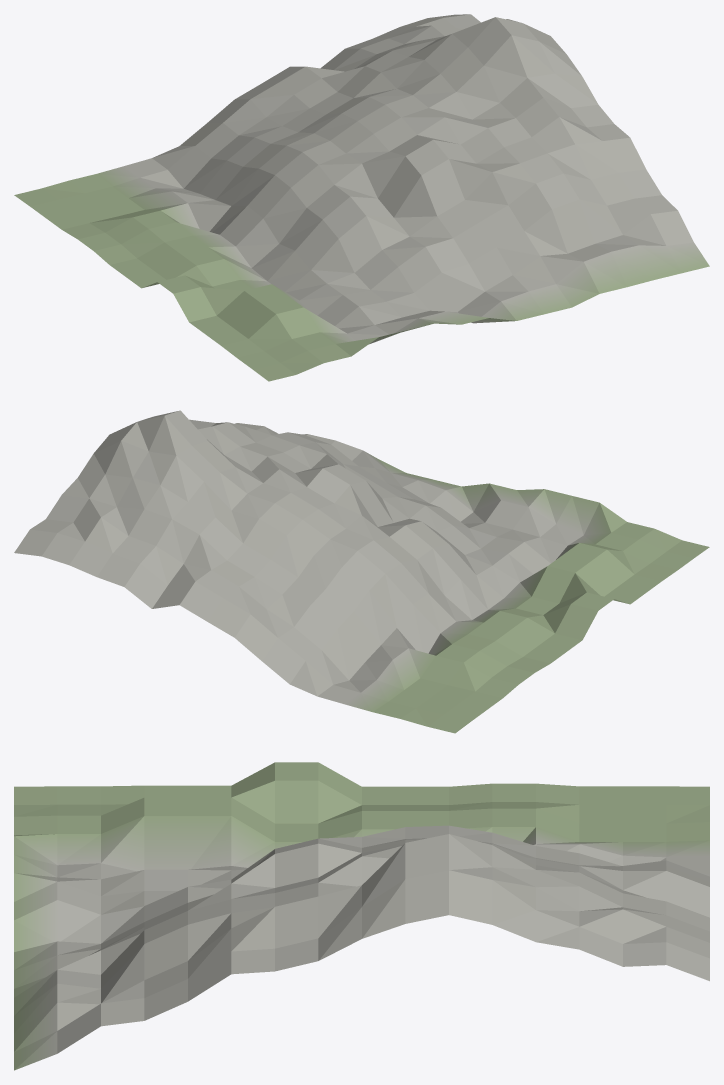
3 views of the same model, one above another, from view 1: azimuth 30°, elevation 25°; view 2: azimuth 150°, elevation 25°; view 3: azimuth 270°, elevation 25° (orthographic). The views are drawn at different scales.
Bounding box in the file's own units: 32 × 11.48 × 32.
